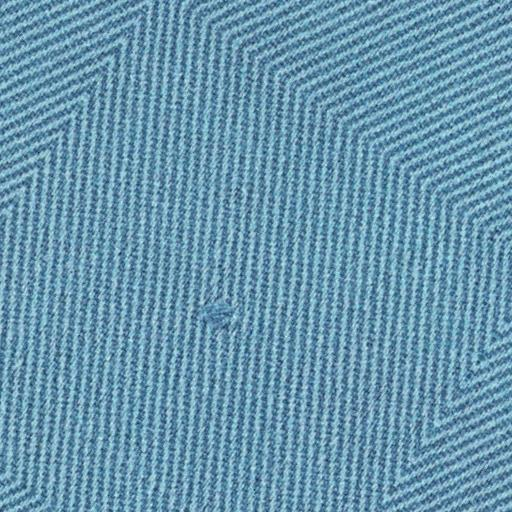knot: (193, 292, 258, 347)
